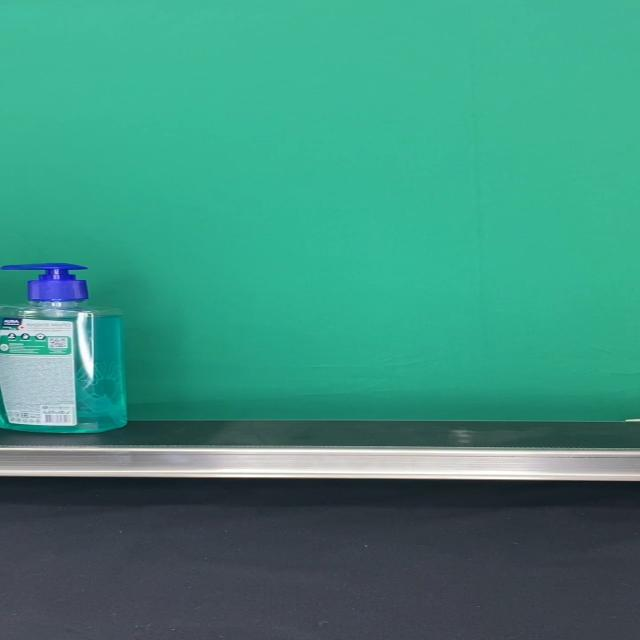Bottle: (0, 262, 128, 434)
Cap: (0, 262, 90, 302)
